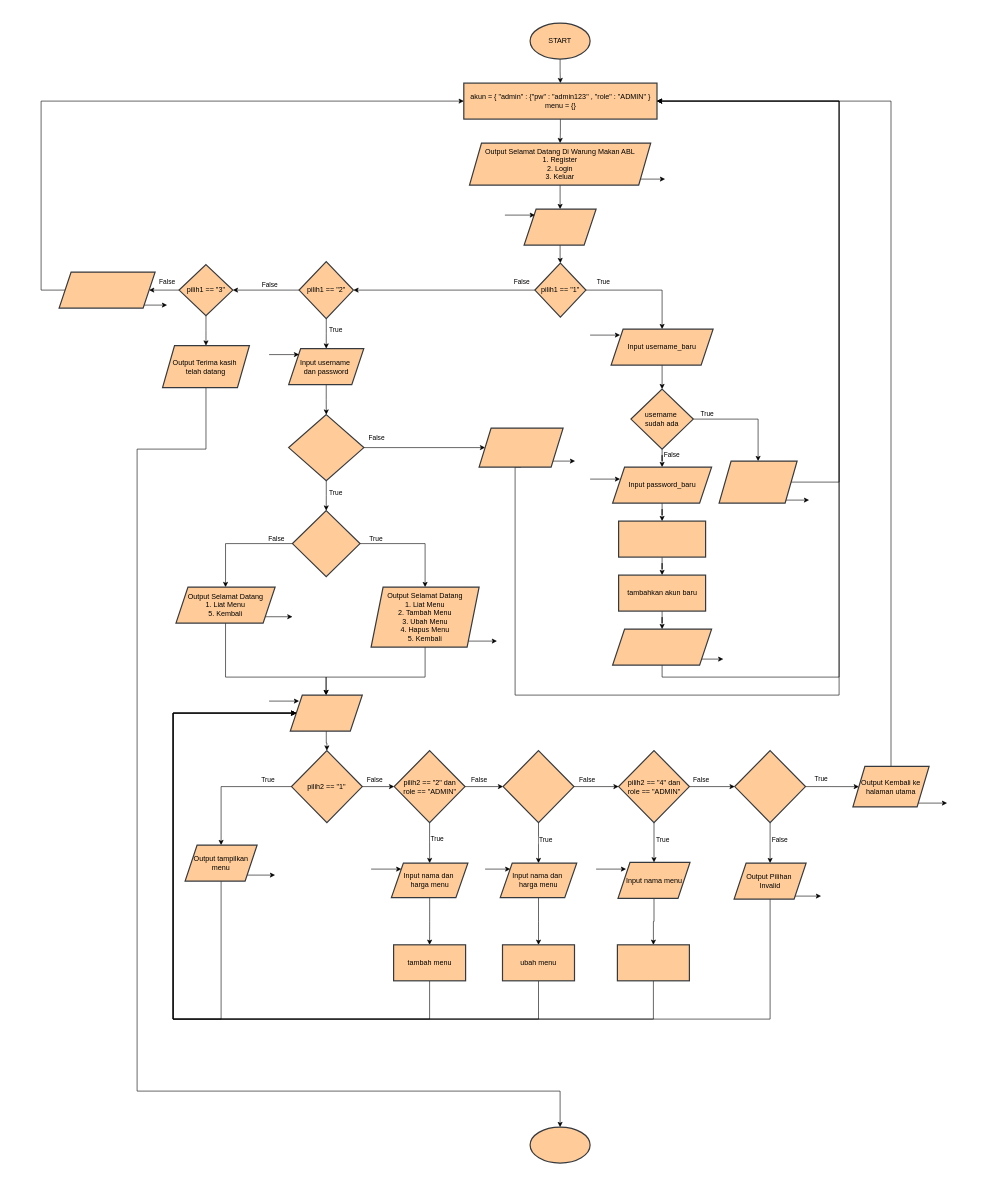
Image size: 988x1192. Some labels were removed from this diagram. Each missing label, with the centre of its shape:
END: [559,1144]
hapus menu: [653,962]
Input pilih1: [559,226]
Input pilih2: [326,712]
Output Pilihan Tidak Valid: [106,289]
Output Register Berhasil: [662,646]
Output Username atau password salah: [520,447]
Output Username Sudah Ada: [757,481]
pilih2 == "3" dan role == "ADMIN": [538,786]
pilih2 == "5": [770,786]
role == "ADMIN": [326,543]
role_baru = pengunjung: [662,538]
username dan password benar: [326,447]
